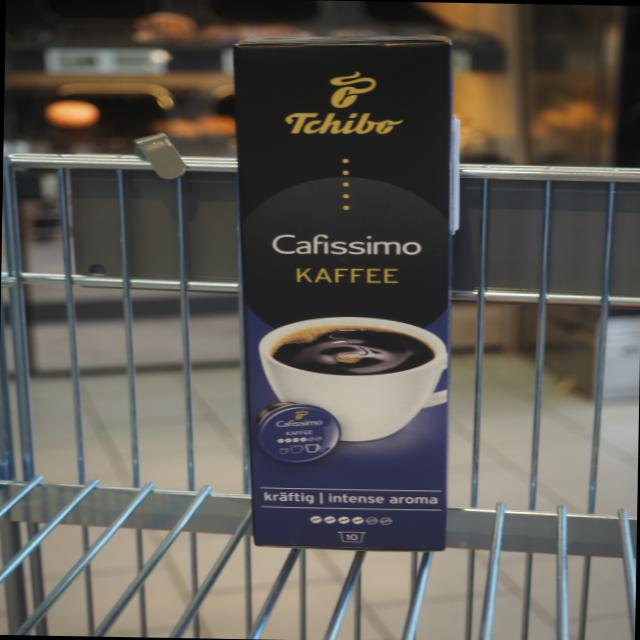Simo Kaffee Kraft: (231, 38, 455, 553)
